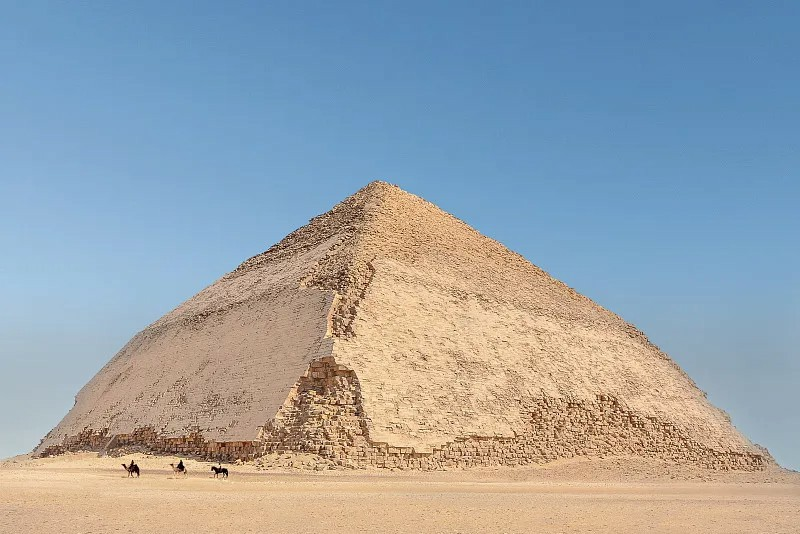Pyramid: (30, 179, 774, 472)
